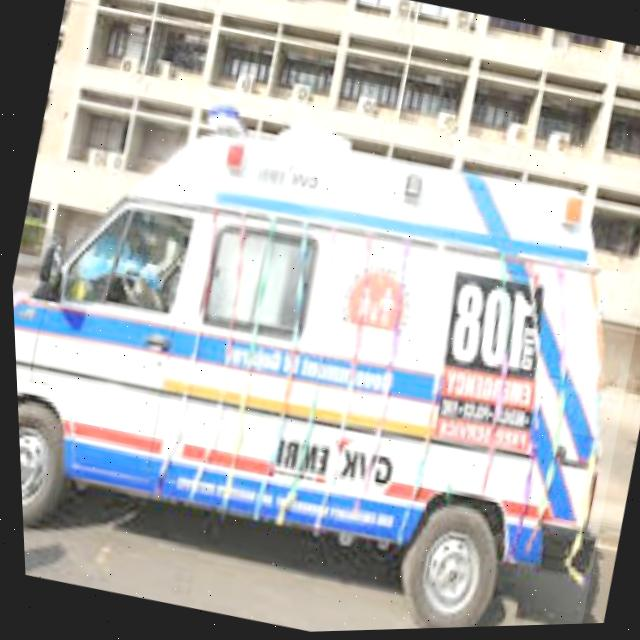Ambulance: (2, 43, 640, 640)
